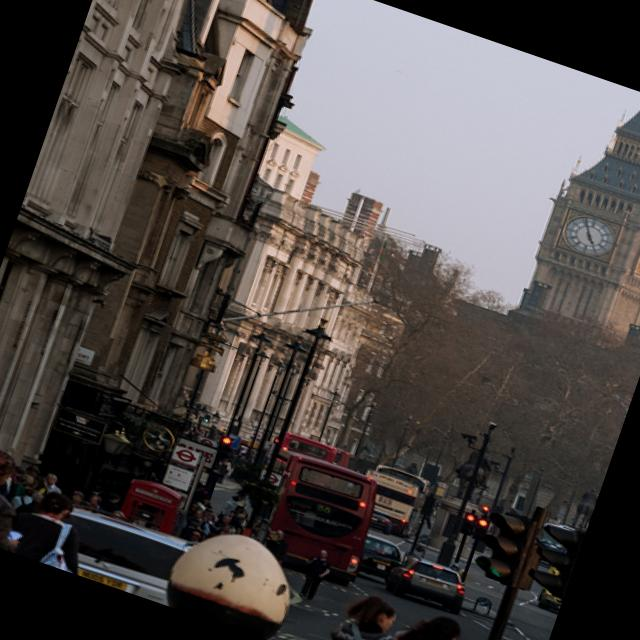Vehicle: (45, 504, 210, 614), (260, 454, 390, 586), (380, 549, 472, 617), (355, 468, 422, 526), (356, 533, 406, 583), (278, 430, 338, 466), (534, 560, 573, 613), (367, 508, 395, 534), (332, 450, 351, 467)
